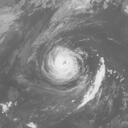cyclone: (42, 43, 88, 83)
